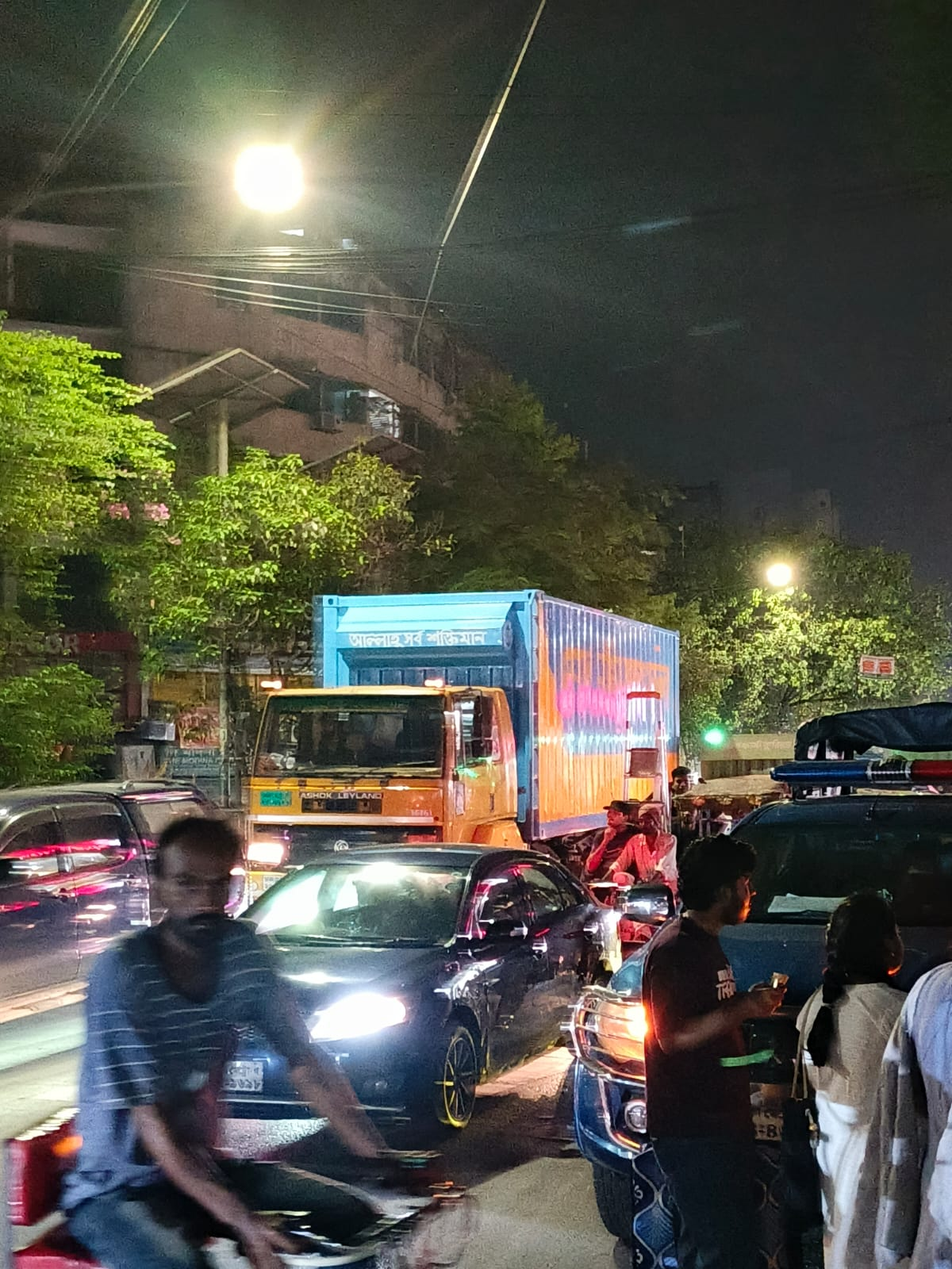Police cars: (624, 680, 952, 1263)
Truck: (227, 535, 728, 864)
private car: (206, 815, 649, 1136), (3, 775, 324, 999)
